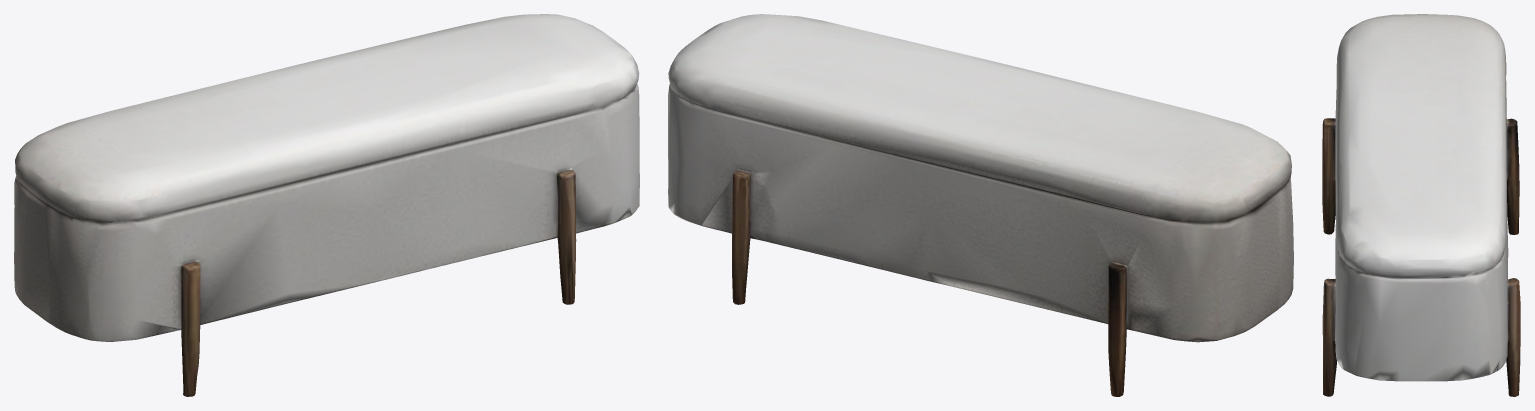
3 views of the same model, side by side, from view 1: azimuth 30°, elevation 25°; view 2: azimuth 150°, elevation 25°; view 3: azimuth 270°, elevation 25° (orthographic). The views are drawn at different scales.
Parts seen in each view (by area): view 1: geometry_0; view 2: geometry_0; view 3: geometry_0.
Boxes of the visible parts, bbox=[...] form: geometry_0: bbox=[14, 14, 639, 396]; geometry_0: bbox=[668, 14, 1293, 396]; geometry_0: bbox=[1322, 14, 1520, 396].
Size of the model in its own units: 0.9987 by 0.3544 by 0.3376.
Materials: 1 (1 with a texture image).
